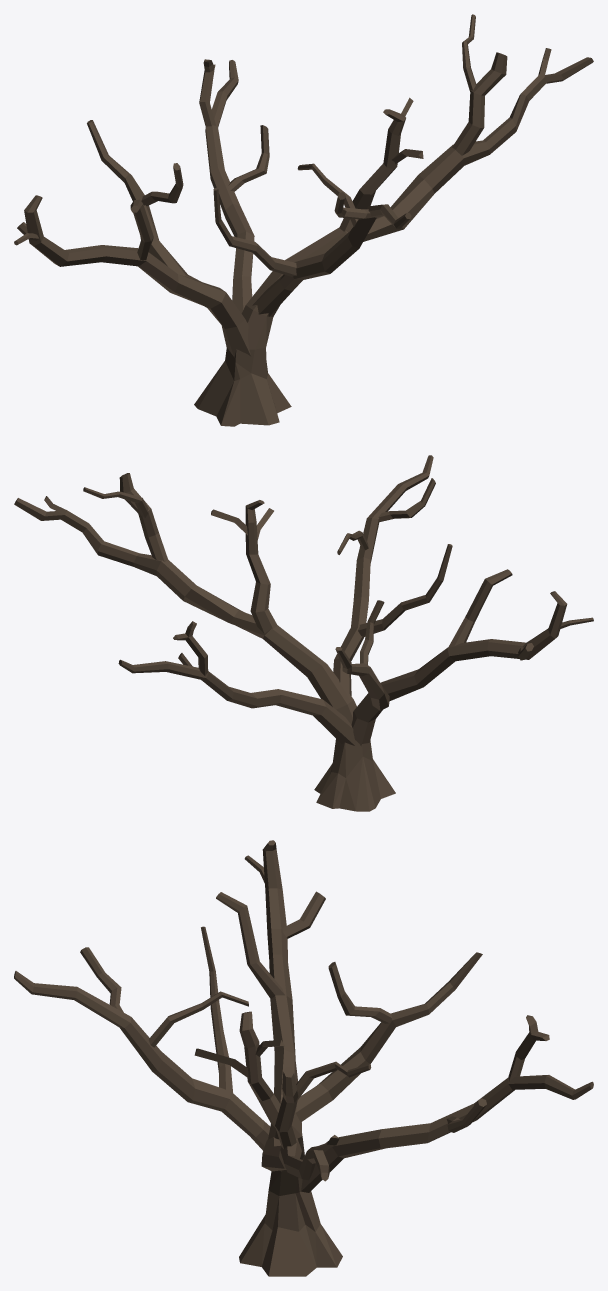
Rendered from zone2-s5.glb.
3 views of the same model, one above another, from view 1: azimuth 30°, elevation 25°; view 2: azimuth 150°, elevation 25°; view 3: azimuth 270°, elevation 25° (orthographic). The views are drawn at different scales.
Visible parts, largest first — view 1: tree-acacia-senegal-dry-dead-a.001; view 2: tree-acacia-senegal-dry-dead-a.001; view 3: tree-acacia-senegal-dry-dead-a.001.
Part boxes in pixels (x1,y1,x2,y2): tree-acacia-senegal-dry-dead-a.001: (14,14,593,426); tree-acacia-senegal-dry-dead-a.001: (14,455,593,811); tree-acacia-senegal-dry-dead-a.001: (14,840,593,1276).
Bounding box in the file's own units: 66.65 × 31.55 × 49.48.
